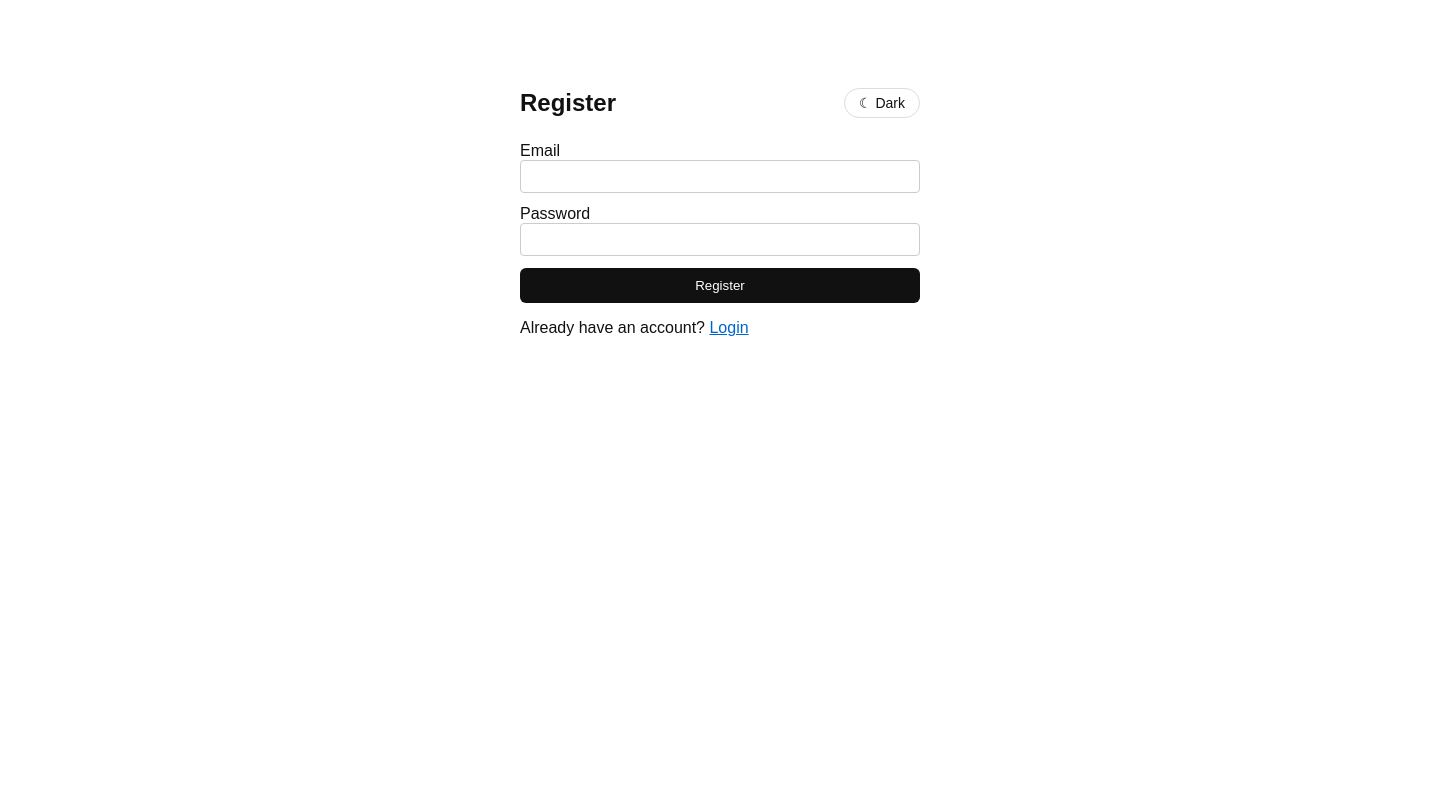
Test: Register page › toggles dark mode when the toggle button is clicked
Click the button "☾ Dark".
click(882, 103)  # box [844,88,920,118]
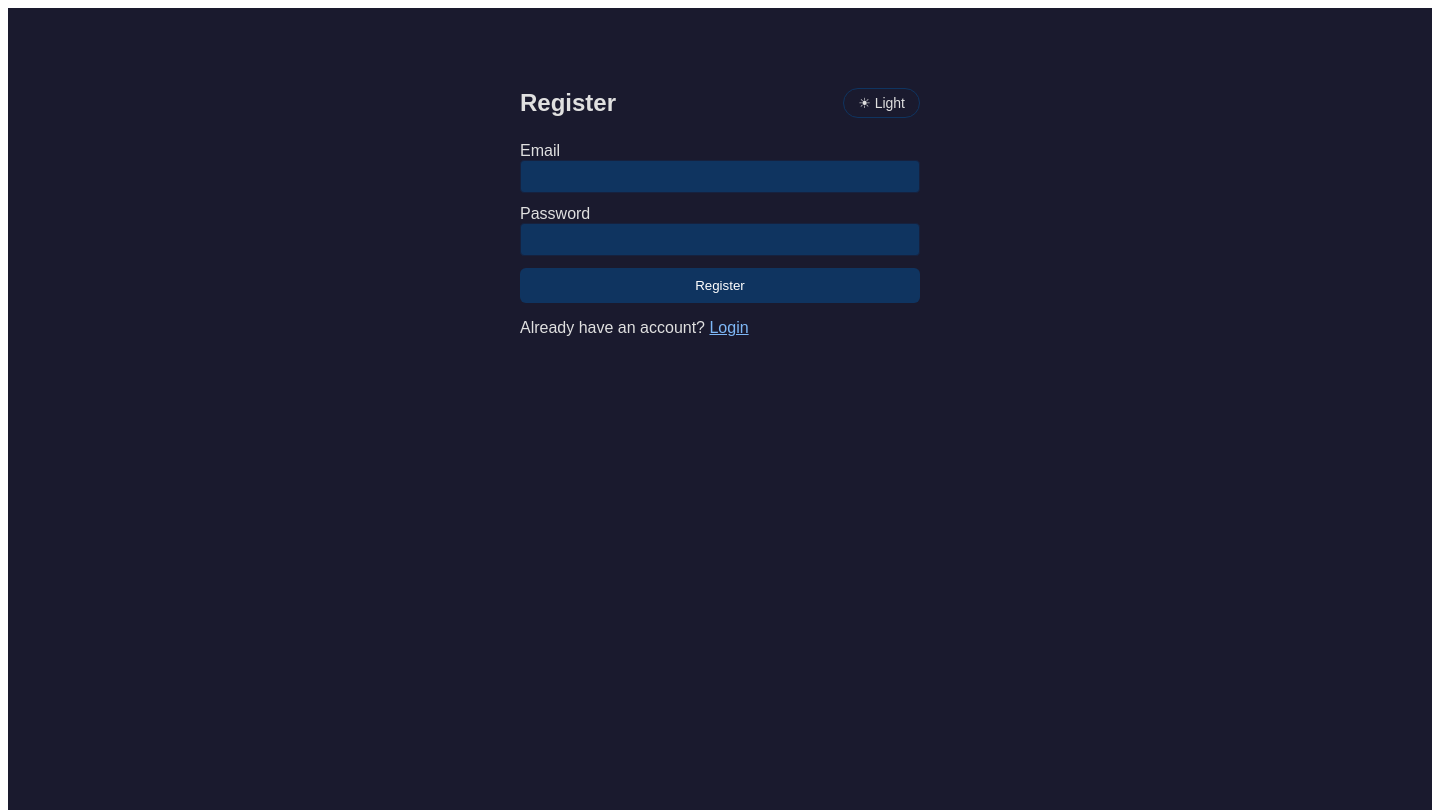
Result: the button "☀ Light" is shown at [843,88,920,118]
